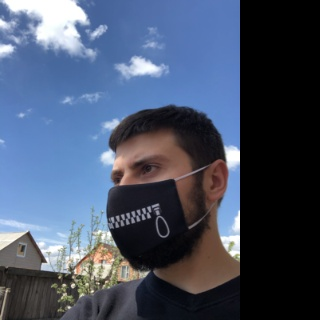with_mask: (106, 151, 194, 272)
